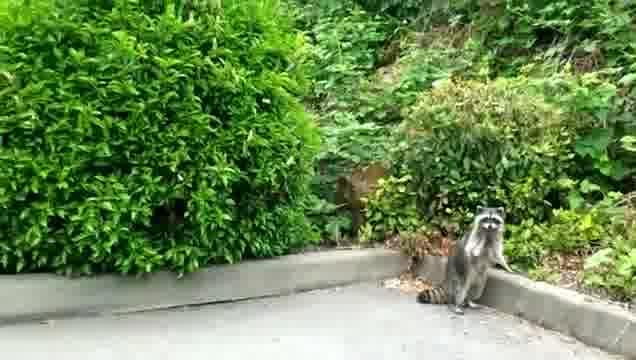raccoon: (412, 204, 516, 316)
